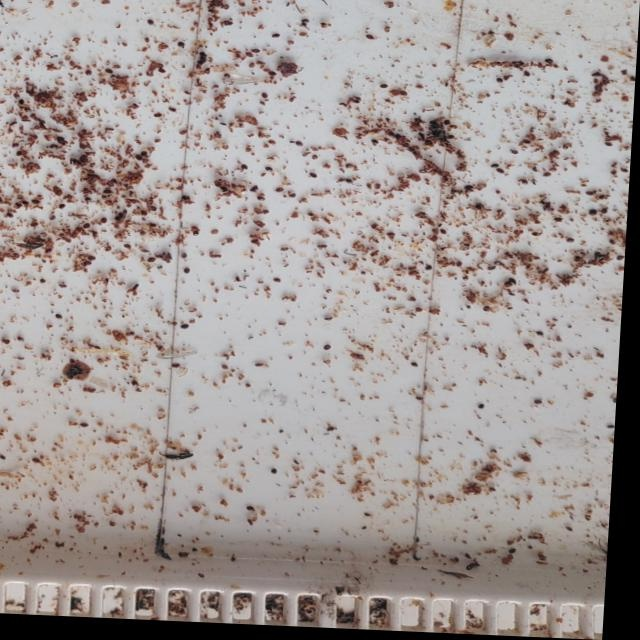varroa: (474, 203, 486, 214), (505, 282, 519, 291), (42, 253, 56, 262), (192, 234, 204, 244), (272, 280, 285, 289), (600, 208, 613, 217), (495, 169, 508, 178), (293, 144, 306, 153), (275, 190, 289, 198), (367, 140, 381, 148), (610, 238, 621, 248), (265, 169, 276, 179), (553, 217, 565, 226), (288, 196, 300, 205), (535, 332, 550, 339), (182, 327, 195, 335), (465, 185, 476, 194), (101, 194, 115, 201), (470, 565, 482, 573), (18, 341, 30, 349), (182, 272, 194, 280), (565, 238, 577, 246), (588, 209, 600, 217), (268, 143, 280, 151), (123, 248, 135, 256), (413, 119, 425, 127), (182, 256, 191, 266), (176, 46, 186, 55), (412, 363, 423, 371), (418, 397, 429, 405), (324, 347, 335, 355), (56, 319, 67, 327), (520, 180, 531, 188), (257, 199, 268, 207), (536, 400, 548, 407), (147, 262, 159, 269), (490, 165, 502, 172), (266, 74, 278, 81), (103, 73, 115, 80), (251, 509, 261, 517), (479, 405, 489, 413), (509, 279, 519, 287), (345, 181, 355, 189), (182, 199, 192, 207), (145, 24, 155, 32), (588, 73, 601, 79), (85, 266, 96, 273), (90, 260, 101, 267), (426, 267, 437, 274), (308, 176, 319, 183), (31, 228, 42, 235), (542, 173, 553, 180), (221, 78, 232, 85), (575, 256, 583, 265), (48, 149, 60, 155), (441, 230, 450, 238), (597, 194, 606, 202), (619, 168, 631, 174), (513, 549, 523, 556), (150, 227, 160, 234), (60, 209, 70, 216), (495, 79, 505, 86), (446, 135, 456, 142), (521, 72, 531, 79), (32, 205, 43, 211), (604, 142, 615, 148), (378, 87, 389, 93), (543, 60, 554, 66), (174, 368, 185, 374), (17, 105, 25, 113), (610, 424, 619, 431), (16, 156, 25, 163), (136, 160, 145, 167), (251, 52, 260, 59), (7, 219, 17, 225), (270, 37, 280, 43), (154, 118, 164, 124), (82, 428, 92, 434), (330, 430, 340, 436), (274, 472, 282, 479), (619, 255, 627, 262), (242, 168, 250, 175), (85, 202, 93, 209), (85, 75, 92, 83), (585, 192, 596, 197), (12, 149, 21, 155), (22, 207, 32, 212), (57, 142, 67, 147), (387, 235, 397, 240), (101, 223, 108, 230), (444, 121, 451, 128), (261, 96, 268, 103), (224, 368, 232, 374), (85, 229, 92, 235), (142, 156, 149, 162), (395, 136, 402, 142), (151, 211, 157, 217)
